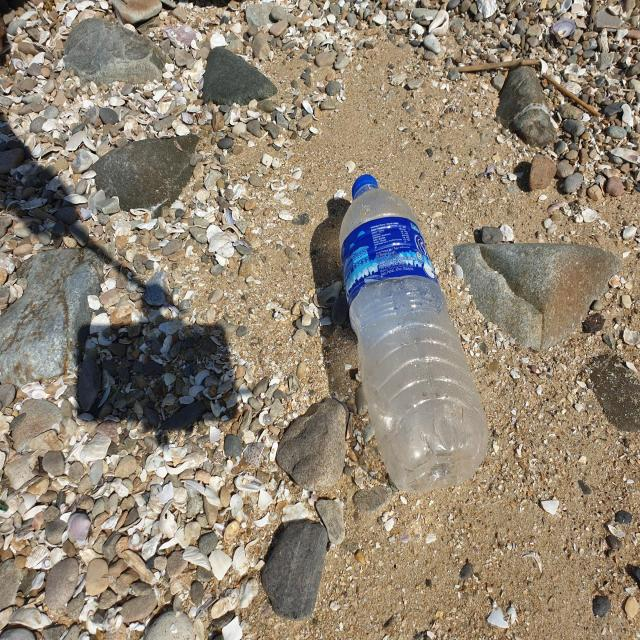plastic: (339, 174, 489, 493)
